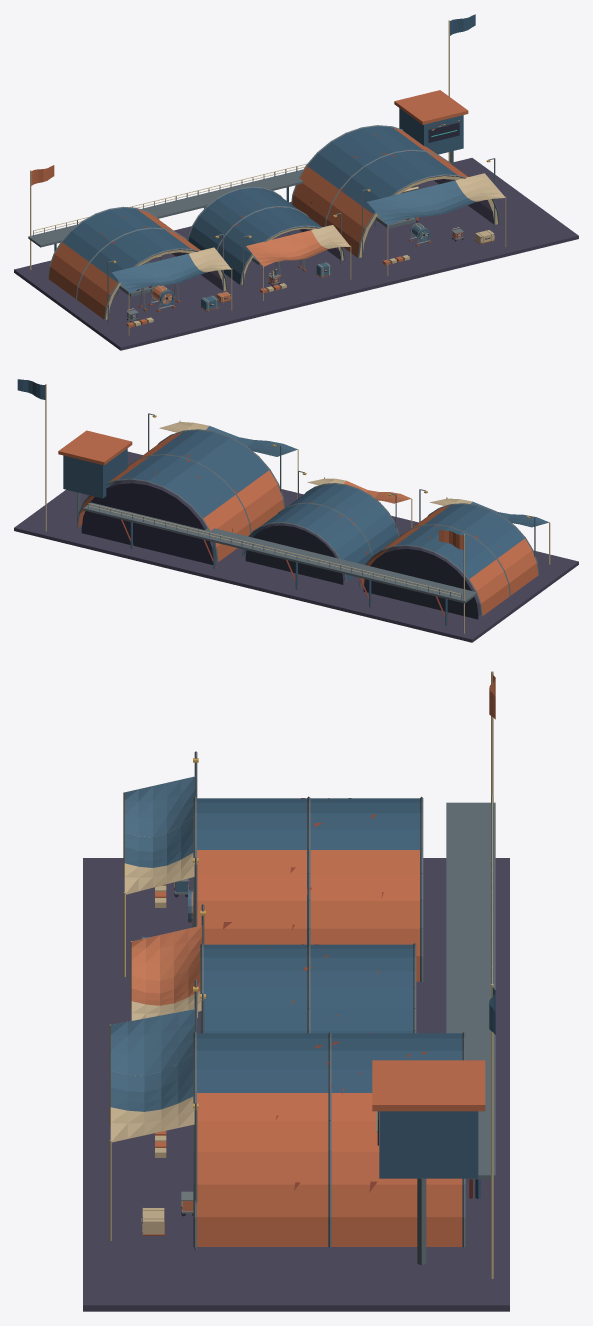
Rendered from pit-complex.glb.
3 renders of one model, top to bottom at view 1: azimuth 30°, elevation 25°; view 2: azimuth 150°, elevation 25°; view 3: azimuth 270°, elevation 25°, orthographic. The views are drawn at different scales.
Parts seen in each view (by area): view 1: pit-complex; view 2: pit-complex; view 3: pit-complex.
Part boxes in pixels (box(x1,y1,x2,y2)): pit-complex: box(14, 14, 578, 350); pit-complex: box(14, 379, 578, 642); pit-complex: box(83, 671, 509, 1311).
Bounding box in the file's own units: 150 × 47 × 60.5.
